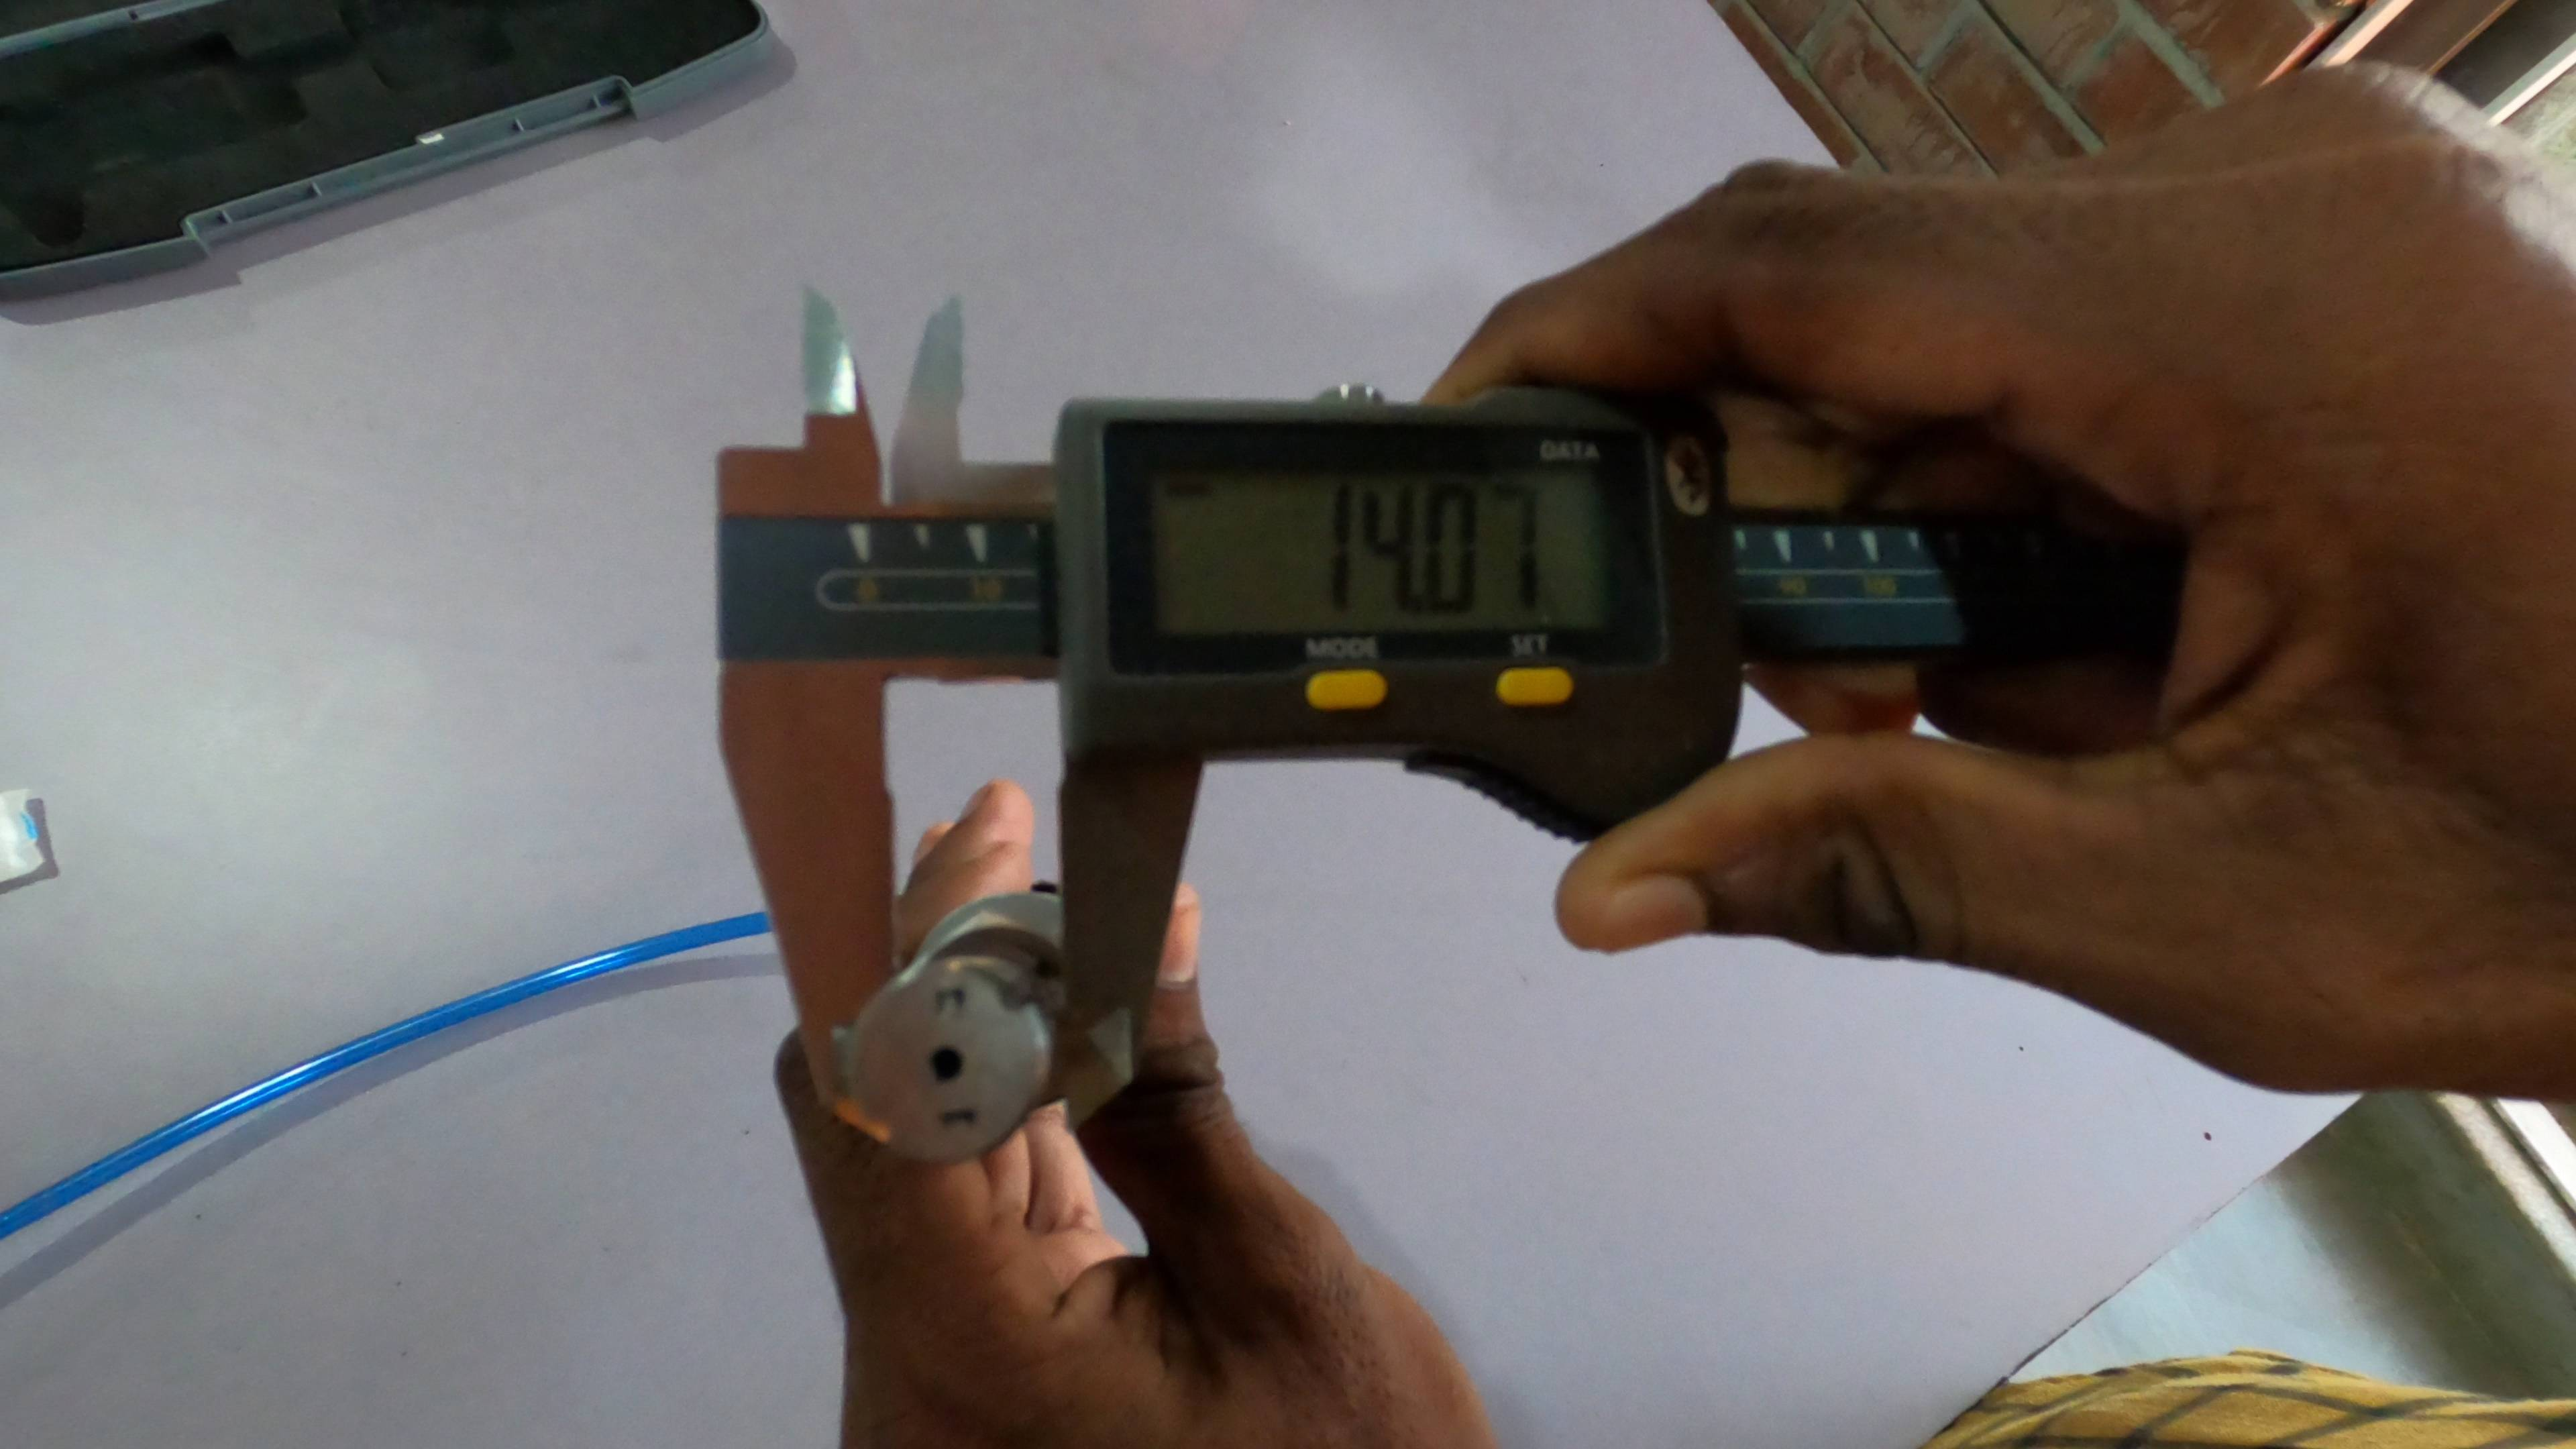vernier_caliper: (711, 274, 2125, 1161)
